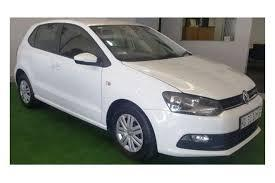windshield: (84, 22, 194, 64)
